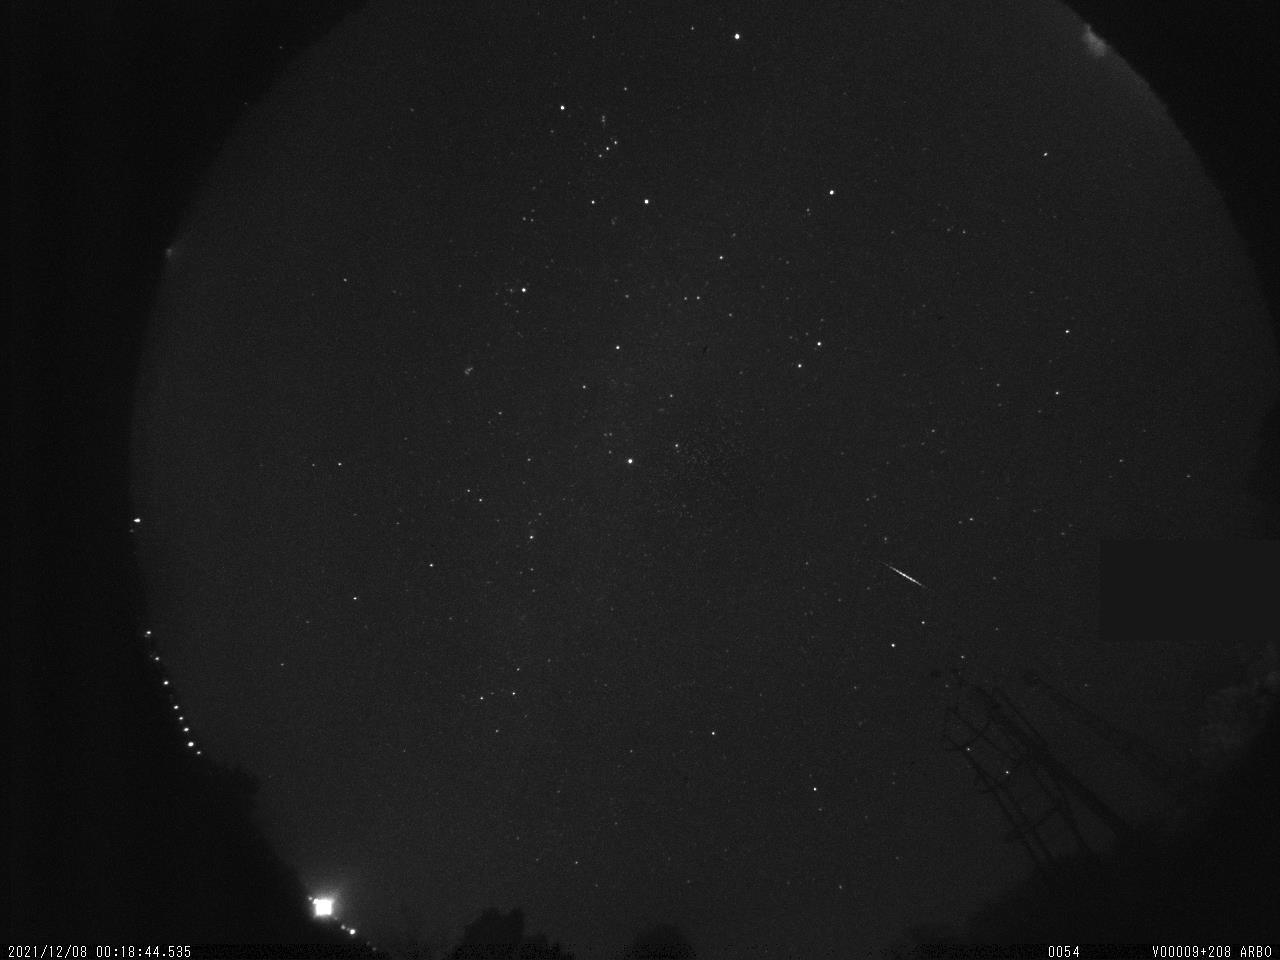meteor: (869, 549, 951, 604)
